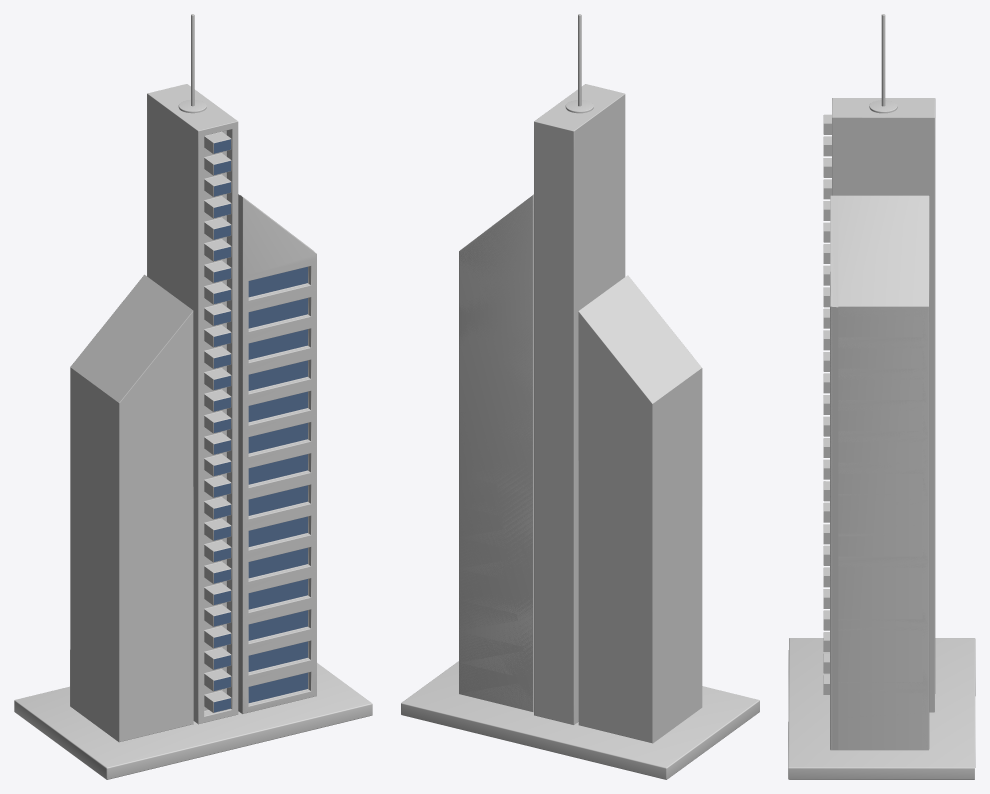
The model's file is building2.gltf.
3 renders of one model, left to right at view 1: azimuth 30°, elevation 25°; view 2: azimuth 150°, elevation 25°; view 3: azimuth 270°, elevation 25°, orthographic.
Visible parts, largest first — view 1: 空白_2; view 2: 空白_2; view 3: 空白_2.
Part boxes in pixels (x1,y1,x2,y2): 空白_2: (14,14,372,779); 空白_2: (401,14,759,779); 空白_2: (788,14,975,779).
Size of the model in its own units: 5.98 by 14.98 by 3.63.
